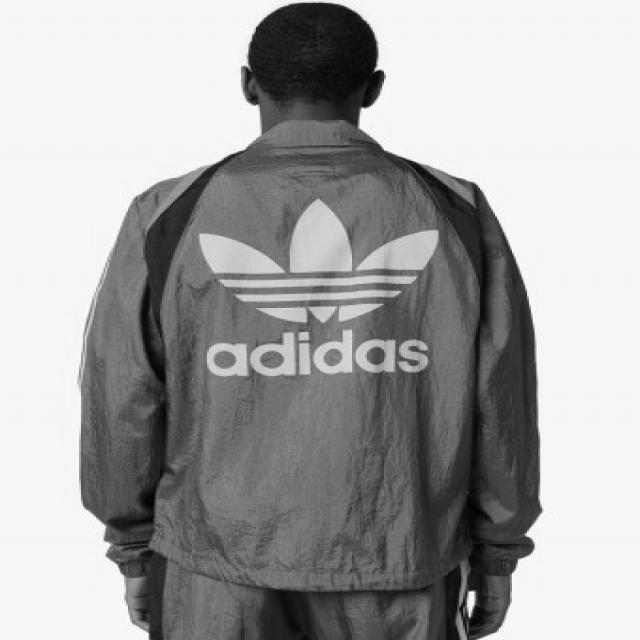Adidas: (198, 193, 448, 324)
